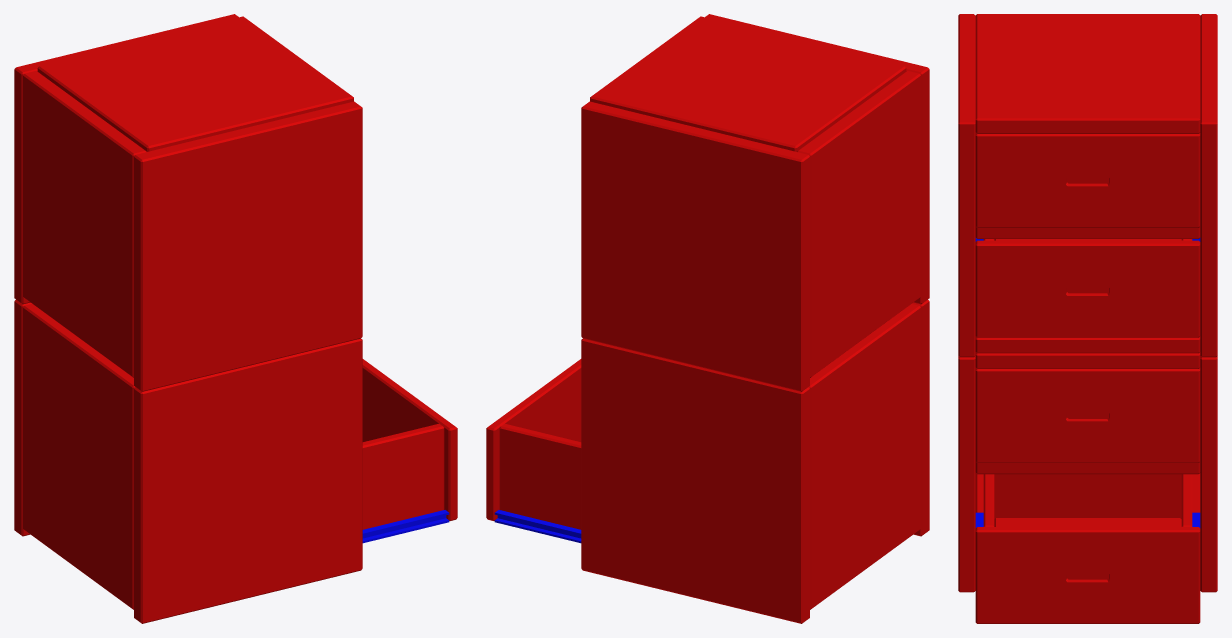
The model's file is bigdresser.fbx.
The picture shows the model from 3 angles, left to right: view 1: azimuth 30°, elevation 25°; view 2: azimuth 150°, elevation 25°; view 3: azimuth 270°, elevation 25°; orthographic projection.
Parts seen in each view (by area): view 1: m3; view 2: m3; view 3: m3.
Boxes of the visible parts, left/top/right/bottom form: m3: left=14, top=14, right=457, bottom=623; m3: left=486, top=14, right=929, bottom=623; m3: left=958, top=14, right=1217, bottom=623.
Bounding box in the file's own units: 2.2 × 3.03 × 1.5.
